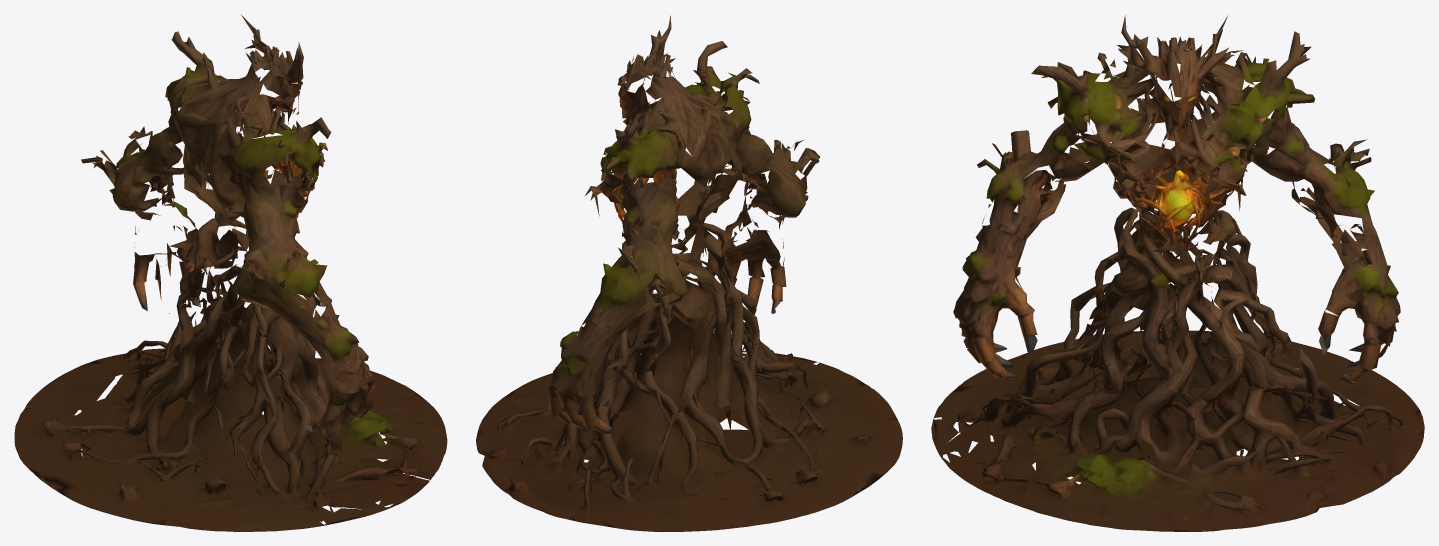
Rendered from root_colossus_fractured.glb.
3 renders of one model, left to right at view 1: azimuth 30°, elevation 25°; view 2: azimuth 150°, elevation 25°; view 3: azimuth 270°, elevation 25°, orthographic. The views are drawn at different scales.
Visible parts, largest first — view 1: BodyShard11, BodyShard21, BodyShard16, BodyShard17, BodyShard25, BodyShard06, BodyShard26, BodyShard04, BodyShard14, BodyShard24, BodyShard19, BodyShard10 (+14 smaller); view 2: BodyShard22, BodyShard17, BodyShard07, BodyShard21, BodyShard05, BodyShard26, BodyShard20, BodyShard11, BodyShard13, BodyShard04, BodyShard12, BodyShard01 (+13 smaller); view 3: BodyShard08, BodyShard07, BodyShard23, BodyShard18, BodyShard24, BodyShard25, BodyShard16, BodyShard14, BodyShard10, BodyShard13, BodyShard20, BodyShard22 (+14 smaller).
Part boxes in pixels (x1,y1,x2,y2): BodyShard11: (152,368,284,506); BodyShard21: (168,53,293,211); BodyShard16: (231,109,331,253); BodyShard17: (80,357,194,474); BodyShard25: (280,393,403,500); BodyShard06: (232,225,327,340); BodyShard26: (159,299,247,417); BodyShard04: (36,460,176,525); BodyShard14: (304,296,375,428); BodyShard24: (241,306,318,402); BodyShard19: (164,490,326,531); BodyShard10: (375,406,447,479); BodyShard22: (566,406,706,512); BodyShard17: (679,401,821,499); BodyShard07: (591,291,690,413); BodyShard21: (621,76,744,195); BodyShard05: (588,226,688,329); BodyShard26: (690,297,759,403); BodyShard20: (647,179,741,327); BodyShard11: (722,302,860,438); BodyShard13: (548,313,626,434); BodyShard04: (814,420,902,490); BodyShard12: (719,469,861,528); BodyShard01: (568,494,732,531); BodyShard08: (1108,92,1261,271); BodyShard07: (1159,258,1313,408); BodyShard23: (1182,368,1326,507); BodyShard18: (1059,376,1204,498); BodyShard24: (1069,254,1178,393); BodyShard25: (978,343,1105,477); BodyShard16: (1006,52,1133,178); BodyShard14: (953,223,1037,374); BodyShard10: (984,464,1156,530); BodyShard13: (1318,232,1400,382); BodyShard20: (1106,144,1250,277); BodyShard22: (1264,346,1405,451).
Bounding box in the file's own units: 0.9503 × 0.9924 × 1.
2 materials, 1 textured.
